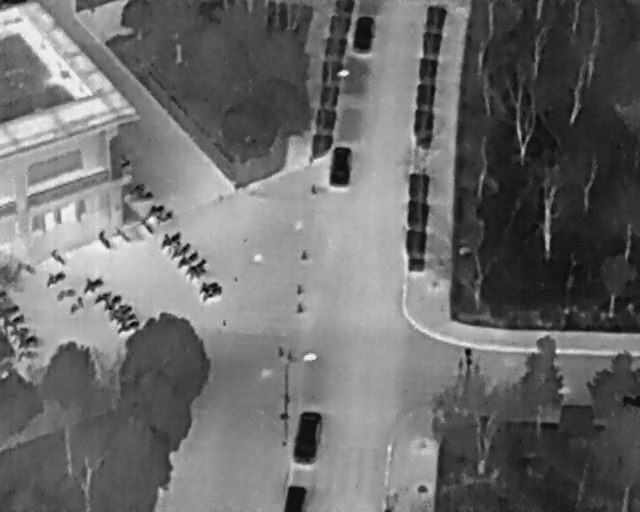Bicycle: (181, 256, 212, 284), (76, 269, 106, 297), (172, 245, 202, 272), (166, 238, 195, 264), (156, 226, 184, 251), (41, 264, 68, 289), (104, 298, 131, 323), (0, 309, 27, 332), (113, 316, 142, 337), (194, 274, 220, 297), (5, 321, 31, 343), (198, 283, 225, 304), (111, 223, 134, 247), (66, 295, 89, 319), (100, 291, 124, 313), (90, 286, 115, 307), (47, 246, 69, 268), (153, 206, 177, 226), (95, 229, 115, 251), (114, 309, 138, 327), (137, 217, 157, 238), (53, 285, 76, 303), (145, 199, 166, 218), (15, 348, 39, 363), (126, 180, 147, 195), (0, 302, 19, 317), (131, 191, 154, 202), (18, 336, 39, 348), (118, 157, 133, 170), (0, 288, 8, 298)
Car: (290, 407, 325, 469), (327, 144, 354, 189), (351, 14, 376, 54), (284, 484, 307, 510)
